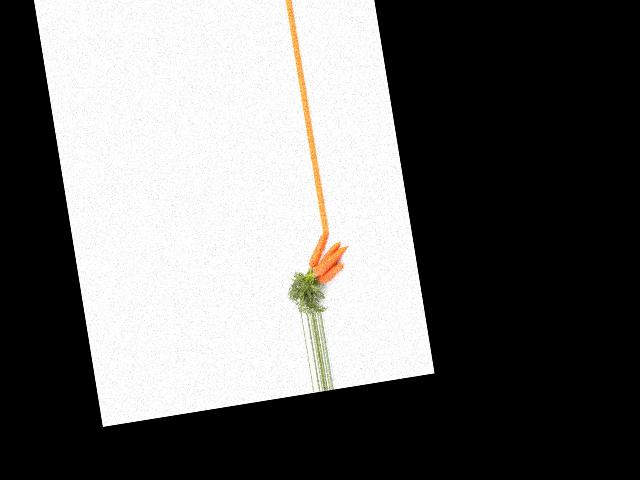carrot: (313, 260, 349, 285)
